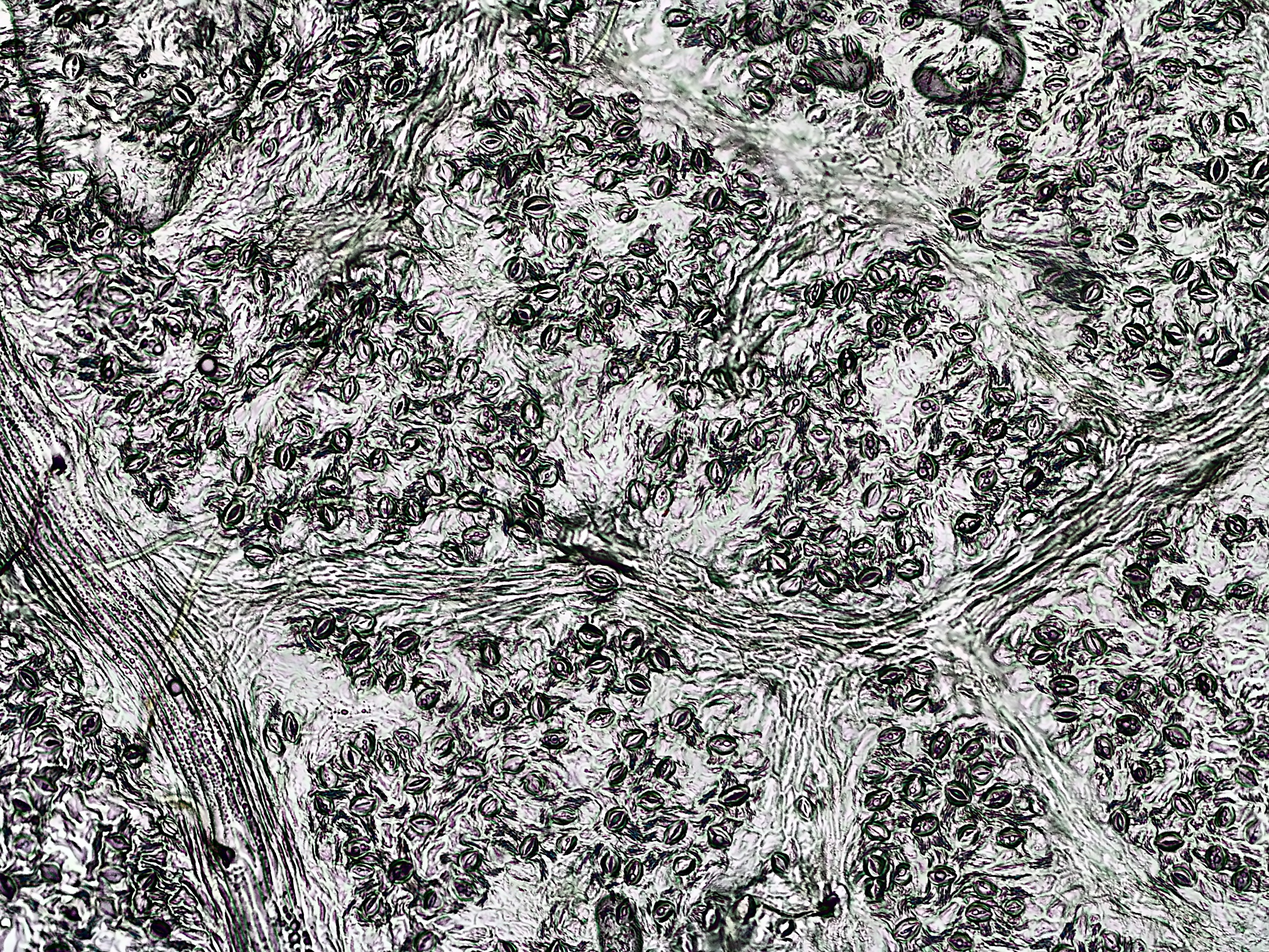stomata: (979, 784, 1012, 809), (577, 623, 605, 651), (943, 780, 972, 806), (892, 917, 921, 943), (584, 568, 618, 590), (339, 742, 363, 773), (523, 196, 555, 219), (949, 207, 981, 230), (718, 784, 750, 807), (656, 330, 679, 362), (1115, 674, 1141, 702), (995, 828, 1028, 850), (348, 793, 377, 818), (910, 812, 940, 836), (627, 479, 650, 510), (417, 357, 448, 380), (1141, 362, 1173, 384), (1171, 790, 1197, 817), (77, 711, 103, 738), (386, 859, 414, 884), (1211, 342, 1240, 366), (262, 727, 286, 756), (1122, 562, 1152, 585), (1115, 714, 1145, 737), (527, 691, 550, 721), (732, 894, 755, 924), (341, 836, 371, 859), (783, 391, 809, 417), (430, 397, 456, 423), (603, 806, 629, 832), (260, 79, 288, 103), (1155, 57, 1187, 78), (521, 492, 545, 520), (342, 640, 370, 664), (263, 507, 287, 535), (865, 83, 894, 106), (1164, 724, 1193, 747), (864, 789, 893, 812), (834, 278, 857, 307), (646, 431, 669, 460), (99, 354, 122, 383), (222, 498, 245, 527), (996, 163, 1029, 183), (916, 451, 938, 481), (245, 545, 275, 567), (84, 89, 115, 110), (959, 4, 990, 25), (1123, 285, 1154, 306), (1173, 632, 1204, 653), (282, 711, 303, 742), (1083, 629, 1108, 655), (902, 774, 927, 800), (83, 5, 110, 29), (338, 74, 362, 101), (663, 818, 687, 845), (312, 613, 336, 640), (392, 630, 419, 654), (414, 687, 441, 711), (611, 119, 639, 142), (785, 27, 808, 55), (1204, 844, 1227, 872), (704, 459, 727, 487), (466, 446, 494, 469), (929, 730, 951, 759), (539, 727, 568, 749), (274, 443, 296, 472), (196, 17, 217, 47), (1049, 675, 1079, 696), (908, 655, 938, 676), (927, 865, 957, 886), (708, 734, 738, 755), (861, 761, 891, 782), (231, 455, 252, 485), (121, 743, 146, 768), (1181, 585, 1205, 611), (1194, 765, 1220, 789), (902, 688, 928, 712), (413, 310, 437, 336), (429, 734, 455, 758), (169, 83, 196, 106), (240, 47, 263, 74), (529, 147, 552, 174), (1171, 257, 1194, 284), (1210, 257, 1237, 280), (1229, 866, 1252, 893), (949, 322, 976, 345), (521, 400, 544, 427), (80, 759, 103, 786), (980, 93, 1011, 113), (1188, 283, 1219, 303), (1154, 832, 1185, 852), (148, 482, 168, 513), (407, 813, 438, 833), (268, 31, 290, 59), (1099, 127, 1127, 149), (1206, 155, 1228, 183), (913, 396, 941, 418), (804, 279, 826, 307), (456, 490, 484, 512), (394, 727, 422, 749), (378, 746, 400, 774), (498, 160, 519, 189), (565, 98, 594, 119), (745, 88, 774, 109), (841, 33, 862, 62), (1102, 50, 1131, 71), (636, 790, 665, 811), (385, 74, 409, 99), (433, 159, 457, 184), (1123, 323, 1148, 347), (1142, 599, 1166, 624), (1020, 466, 1044, 491), (860, 430, 880, 460), (692, 302, 717, 326), (690, 272, 715, 296), (340, 374, 360, 404), (586, 708, 616, 728), (549, 656, 574, 680), (316, 475, 346, 495), (218, 66, 241, 92), (790, 71, 816, 94), (1074, 161, 1097, 187), (1234, 765, 1260, 788), (1213, 803, 1236, 829), (1243, 819, 1266, 845), (896, 558, 922, 581), (606, 358, 629, 384), (305, 320, 331, 343), (476, 405, 499, 431), (479, 373, 505, 396), (62, 52, 84, 79), (1111, 234, 1138, 256), (778, 517, 805, 539), (503, 255, 525, 282), (1034, 625, 1065, 644), (747, 59, 775, 80), (996, 133, 1024, 154), (358, 292, 379, 320), (451, 880, 479, 901), (458, 757, 486, 778), (1013, 509, 1042, 529), (877, 725, 906, 745), (684, 380, 704, 409), (461, 525, 490, 545), (623, 857, 643, 886), (616, 897, 636, 926), (1222, 716, 1256, 733), (959, 737, 983, 761), (974, 466, 998, 490), (904, 314, 928, 338), (514, 443, 538, 467), (568, 133, 593, 156), (703, 24, 726, 49), (955, 60, 980, 83), (1034, 180, 1059, 203), (914, 246, 939, 269), (703, 187, 726, 212), (982, 418, 1007, 441), (1243, 206, 1269, 228), (1162, 323, 1188, 345), (1075, 324, 1097, 350), (707, 826, 733, 848), (794, 455, 820, 477), (625, 673, 651, 695), (60, 673, 82, 699), (1053, 42, 1083, 61), (1119, 190, 1149, 209), (876, 666, 906, 685), (628, 237, 658, 256), (579, 265, 609, 284), (735, 214, 762, 235), (1199, 111, 1220, 138), (965, 901, 992, 922), (540, 324, 561, 351), (292, 103, 312, 131), (838, 348, 858, 376), (667, 444, 687, 472), (584, 654, 612, 674), (480, 638, 500, 666), (36, 731, 64, 751), (336, 35, 367, 53), (477, 133, 508, 151), (1194, 66, 1225, 84), (1051, 703, 1082, 721), (1161, 673, 1184, 697), (669, 707, 692, 731), (647, 648, 670, 672), (161, 379, 184, 403), (459, 848, 483, 871), (478, 795, 502, 818), (386, 37, 415, 56), (1141, 529, 1170, 548), (457, 168, 482, 190), (998, 730, 1020, 755), (866, 820, 891, 842), (866, 313, 888, 338), (815, 566, 840, 588), (719, 417, 741, 442), (652, 484, 674, 509), (484, 216, 509, 238), (139, 335, 164, 357), (404, 498, 426, 523), (412, 930, 437, 952), (1067, 226, 1093, 247), (856, 566, 882, 587), (458, 357, 479, 383), (438, 545, 464, 566), (600, 851, 621, 877), (381, 6, 408, 26), (955, 513, 982, 533), (947, 354, 974, 374), (576, 319, 596, 346), (197, 327, 224, 347), (389, 392, 409, 419), (404, 774, 431, 794), (318, 762, 338, 789), (123, 454, 150, 474), (945, 116, 973, 135), (279, 311, 298, 339), (197, 391, 225, 410), (701, 903, 720, 931), (55, 5, 78, 28), (594, 168, 617, 191), (648, 175, 671, 198), (1017, 108, 1040, 131), (1225, 514, 1248, 537), (1172, 866, 1195, 889), (957, 823, 980, 846), (537, 464, 560, 487), (900, 7, 924, 29), (689, 227, 713, 249), (654, 756, 676, 780), (621, 267, 643, 291), (202, 245, 226, 267), (156, 277, 178, 301), (245, 364, 269, 386), (423, 471, 445, 495), (24, 705, 46, 729), (491, 98, 512, 123), (949, 439, 974, 460), (353, 337, 374, 362), (506, 520, 531, 541), (663, 9, 692, 27), (651, 140, 671, 166), (973, 878, 999, 898), (862, 481, 882, 507), (107, 286, 133, 306), (314, 348, 340, 368), (369, 447, 389, 473), (691, 147, 710, 174), (1044, 72, 1071, 91), (658, 279, 677, 306), (618, 92, 641, 114), (1199, 200, 1222, 222), (1131, 760, 1153, 783), (863, 855, 886, 877), (551, 231, 573, 254), (652, 900, 675, 922), (17, 667, 39, 690), (159, 816, 181, 839), (136, 110, 160, 131), (181, 135, 202, 159), (1194, 321, 1215, 345), (767, 553, 791, 574), (512, 304, 536, 325), (162, 316, 186, 337), (623, 729, 647, 750), (331, 429, 352, 453), (205, 425, 226, 449), (104, 833, 132, 851), (736, 171, 761, 191), (970, 764, 995, 784), (948, 932, 973, 952), (777, 575, 802, 595), (748, 422, 767, 448), (119, 228, 145, 247), (500, 755, 526, 774), (1065, 15, 1094, 32), (881, 500, 908, 518), (989, 387, 1016, 405), (746, 362, 764, 389), (252, 268, 270, 295), (550, 807, 577, 825), (1061, 435, 1083, 457), (606, 762, 628, 784), (422, 889, 444, 911), (808, 364, 829, 387), (124, 390, 145, 413), (621, 626, 642, 649), (523, 774, 544, 797), (167, 418, 190, 439), (1093, 735, 1113, 759), (1024, 415, 1044, 439), (851, 537, 875, 557), (352, 612, 376, 632), (385, 670, 405, 694), (1156, 11, 1184, 28), (93, 254, 121, 271), (547, 3, 572, 22), (1134, 85, 1153, 110), (1111, 808, 1130, 833), (893, 862, 912, 887), (519, 833, 538, 858), (362, 892, 381, 917), (0, 39, 26, 57), (534, 284, 560, 302), (331, 282, 349, 308), (231, 118, 252, 140), (1081, 281, 1102, 303), (599, 295, 620, 317), (555, 833, 577, 854), (489, 698, 510, 720), (293, 419, 314, 441), (856, 6, 879, 26), (1064, 108, 1084, 131), (1197, 673, 1217, 696), (1030, 645, 1053, 665), (48, 204, 71, 224), (359, 122, 376, 149), (167, 449, 194, 466), (896, 529, 915, 553), (109, 308, 133, 327), (320, 504, 339, 528), (238, 241, 256, 266), (1147, 134, 1173, 151), (349, 862, 375, 879), (100, 867, 126, 884), (805, 103, 826, 124), (90, 222, 111, 243), (1225, 112, 1247, 132), (809, 424, 831, 444), (821, 524, 843, 544), (1161, 213, 1184, 232), (797, 797, 816, 820), (815, 476, 838, 495), (388, 347, 407, 370), (39, 863, 62, 882), (891, 286, 916, 303), (838, 216, 863, 233), (377, 496, 397, 517), (1223, 11, 1245, 30), (673, 856, 695, 875), (1230, 582, 1256, 598), (170, 115, 193, 133), (260, 135, 278, 158), (32, 774, 55, 792), (137, 871, 157, 891), (842, 389, 861, 410), (543, 43, 566, 60), (46, 239, 69, 256), (99, 186, 119, 205), (1004, 899, 1025, 917), (772, 852, 790, 873), (148, 921, 170, 938), (776, 918, 795, 936), (922, 275, 944, 290), (402, 433, 419, 452)
